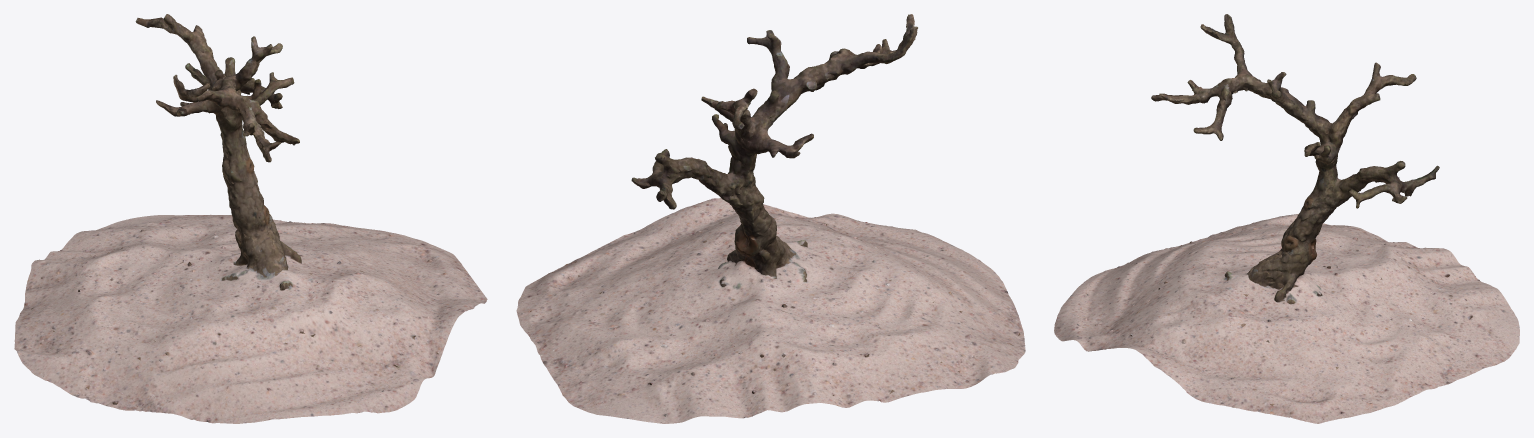
The model's file is tree.gltf.
3 renders of one model, left to right at view 1: azimuth 30°, elevation 25°; view 2: azimuth 150°, elevation 25°; view 3: azimuth 270°, elevation 25°, orthographic. The views are drawn at different scales.
Visible parts, largest first — view 1: tree; view 2: tree; view 3: tree.
Part boxes in pixels (left/top/right/bottom): tree: left=14, top=14, right=487, bottom=423; tree: left=516, top=14, right=1025, bottom=423; tree: left=1054, top=14, right=1519, bottom=423.
Size of the model in its own units: 24.66 by 15.62 by 24.7.
Materials: 1 (1 with a texture image).
